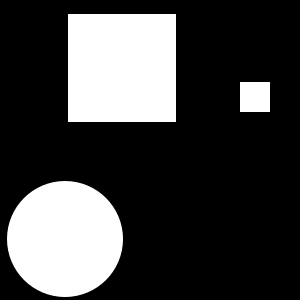circle: (68, 14, 176, 122), (240, 82, 270, 112)
rectangle: (7, 181, 123, 297)
